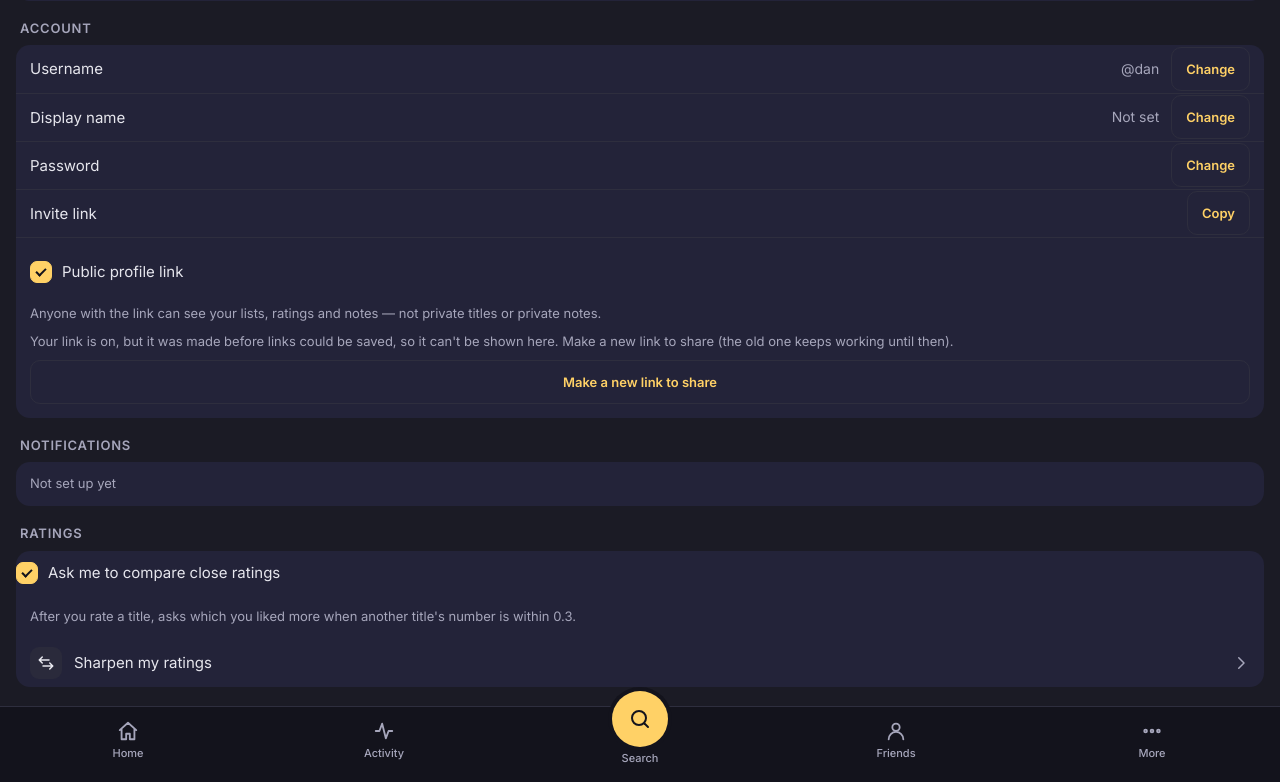
Scenario: Settings > Public profile link › legacy link (made before links were stored): no link shown, offers Make a new link to share
The width and height of the screenshot is (1280, 782).
(page scrolled)
Expected: the switch labelled "Public profile link" is checked, [30,261,52,283]
Expected: the field showing "https://app.test/p/AbCdEfGhIjKlMnOpQrStUv" is not shown
Click the button "Make a new link to share". click: x=640, y=382
box: [30,360,1250,404]
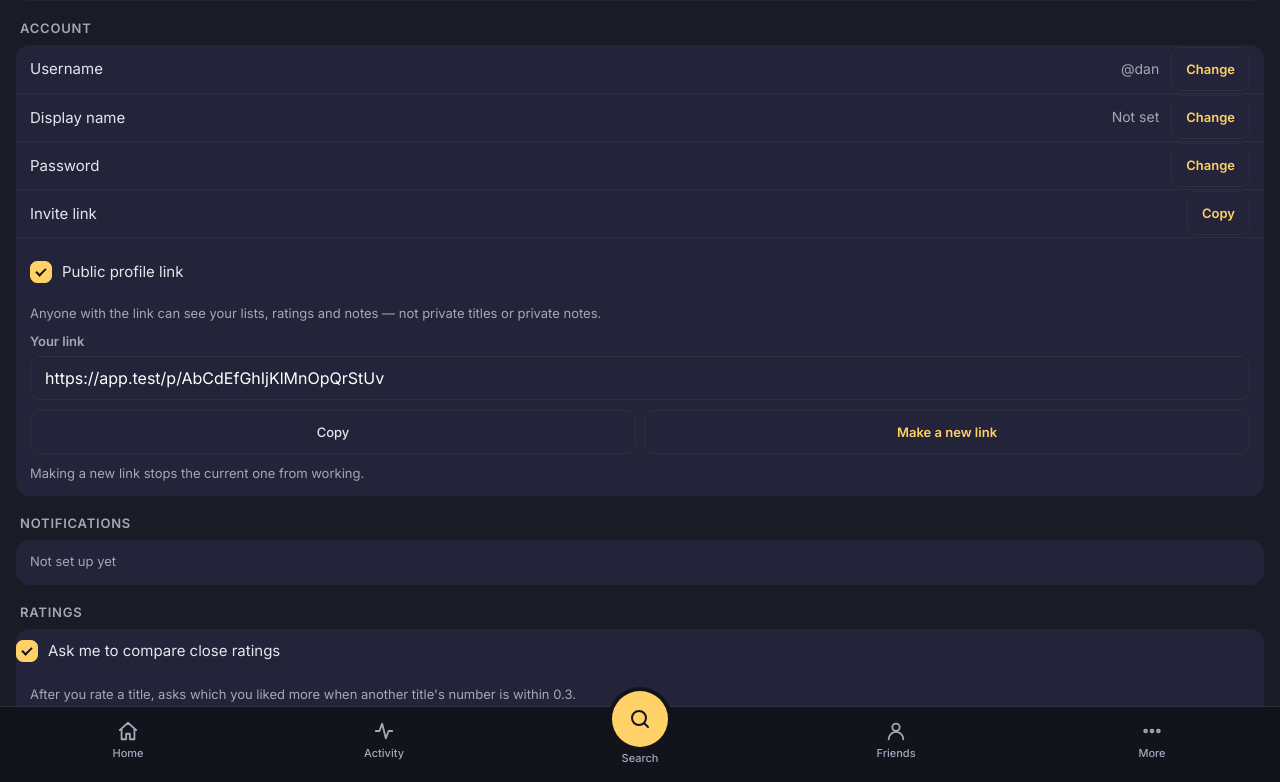
Now the field showing "https://app.test/p/AbCdEfGhIjKlMnOpQrStUv" is shown, box [43,357,1237,399]
